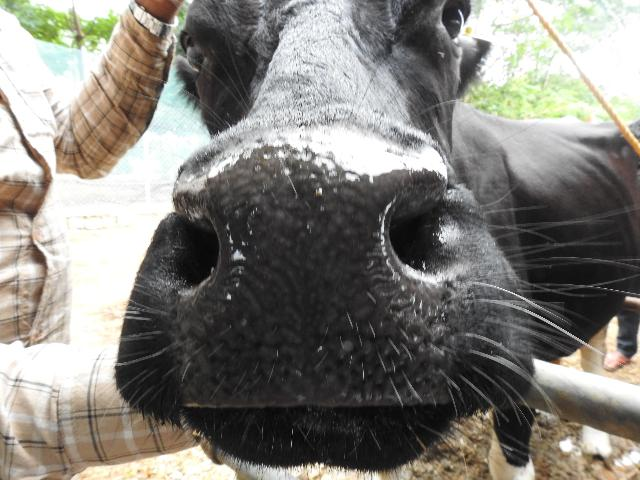Muzzle: (186, 161, 444, 405)
